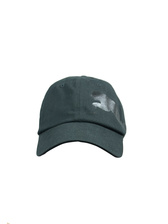other: (34, 74, 137, 160)
